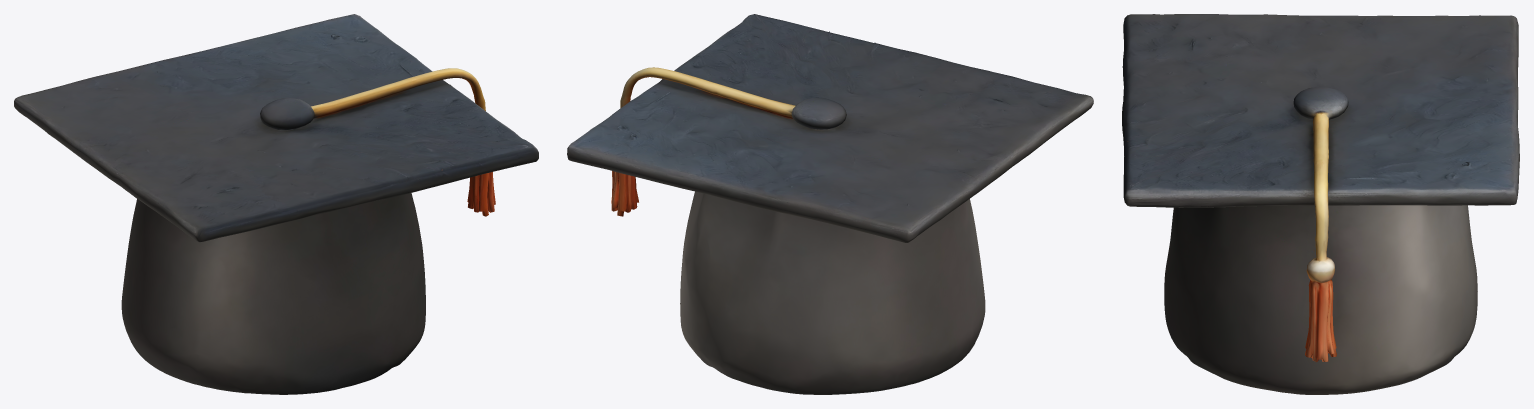
File: graduation cap 3d model.glb
The picture shows the model from 3 angles, left to right: view 1: azimuth 30°, elevation 25°; view 2: azimuth 150°, elevation 25°; view 3: azimuth 270°, elevation 25°; orthographic projection. The views are drawn at different scales.
Parts seen in each view (by area): view 1: tripo_node_db7948ad-4387-4a26-afbb-d1a90c49e9da; view 2: tripo_node_db7948ad-4387-4a26-afbb-d1a90c49e9da; view 3: tripo_node_db7948ad-4387-4a26-afbb-d1a90c49e9da.
Part boxes in pixels (left/top/right/bottom): tripo_node_db7948ad-4387-4a26-afbb-d1a90c49e9da: left=14, top=14, right=538, bottom=394; tripo_node_db7948ad-4387-4a26-afbb-d1a90c49e9da: left=567, top=14, right=1093, bottom=394; tripo_node_db7948ad-4387-4a26-afbb-d1a90c49e9da: left=1122, top=14, right=1519, bottom=394.
Size of the model in its own units: 1 by 0.5647 by 0.8278.
1 material, 1 textured.
